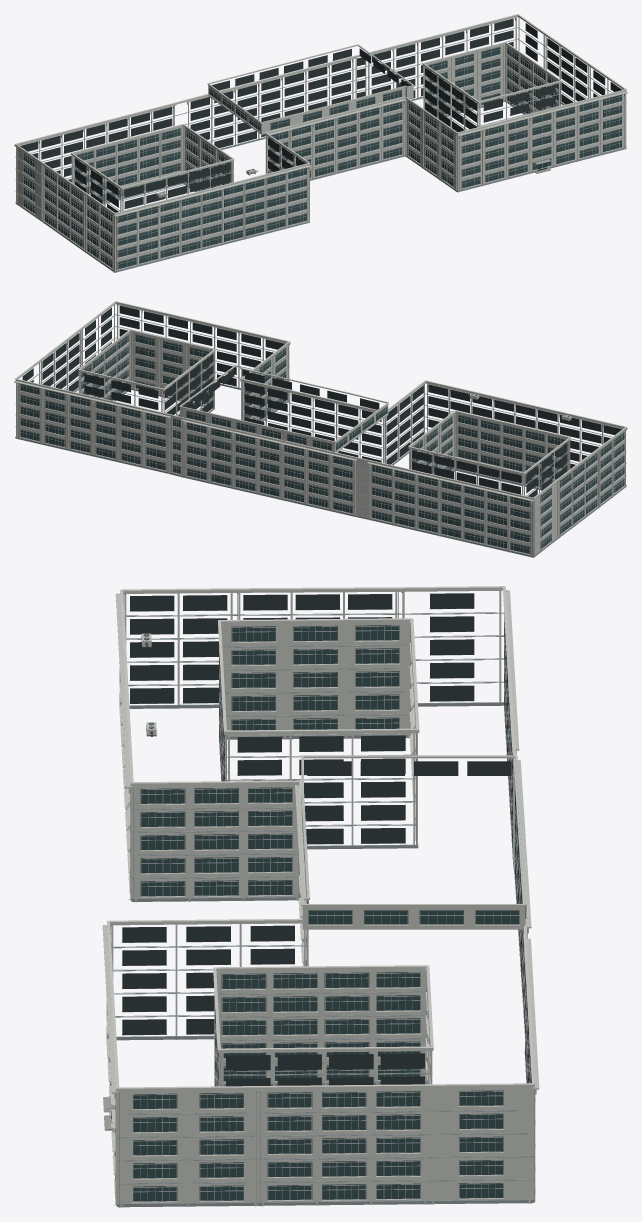
File: osm_way_223699456.glb
3 renders of one model, top to bottom at view 1: azimuth 30°, elevation 25°; view 2: azimuth 150°, elevation 25°; view 3: azimuth 270°, elevation 25°, orthographic. The views are drawn at different scales.
Visible parts, largest first — view 1: Windows and facade details | 教2, Architecture | 教2, Roof services | 教2, EXTERIOR::osm_way_223699456::rainwater and roof service deta; view 2: Windows and facade details | 教2, Architecture | 教2, Roof services | 教2, EXTERIOR::osm_way_223699456::rainwater and roof service deta; view 3: Windows and facade details | 教2, Architecture | 教2, Roof services | 教2, EXTERIOR::osm_way_223699456::rainwater and roof service deta.
Part boxes in pixels (x1,y1,x2,y2): Windows and facade details | 教2: [20, 18, 626, 269]; Architecture | 教2: [15, 15, 626, 272]; Roof services | 教2: [14, 14, 627, 219]; EXTERIOR::osm_way_223699456::rainwater and roof service deta: [41, 91, 625, 271]; Windows and facade details | 教2: [16, 305, 625, 554]; Architecture | 教2: [15, 302, 626, 557]; Roof services | 教2: [14, 301, 627, 504]; EXTERIOR::osm_way_223699456::rainwater and roof service deta: [81, 330, 626, 556]; Windows and facade details | 教2: [106, 592, 535, 1207]; Architecture | 教2: [107, 588, 534, 1207]; Roof services | 教2: [102, 586, 539, 1098]; EXTERIOR::osm_way_223699456::rainwater and roof service deta: [110, 590, 506, 1205].
Bounding box in the file's own units: 173 × 22.5 × 63.38.
